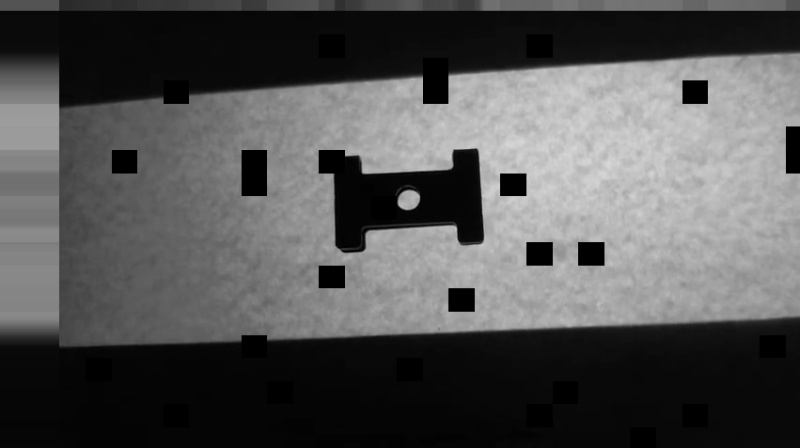O002: (326, 144, 483, 256)
